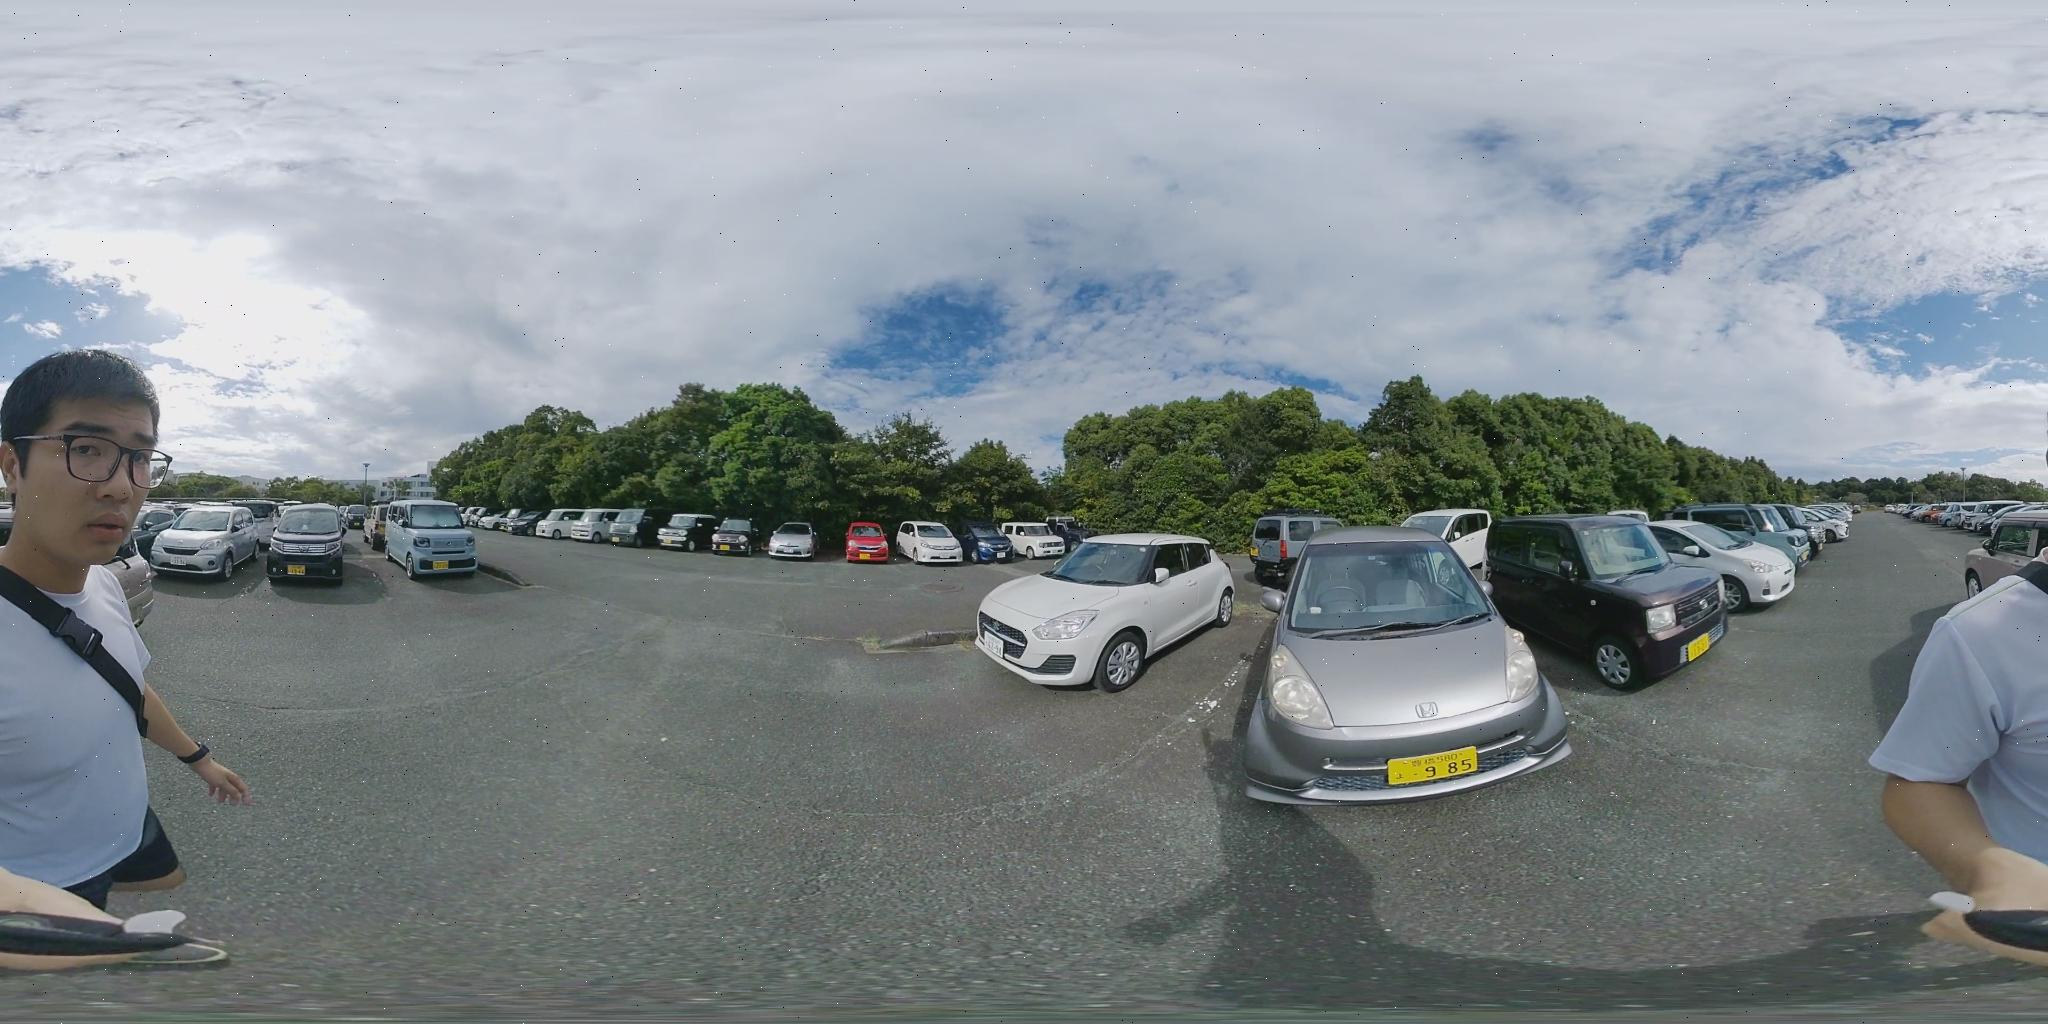car: (1238, 522, 1570, 799), (1482, 513, 1742, 691), (967, 532, 1237, 692), (1655, 521, 1805, 611), (145, 507, 276, 577), (1676, 503, 1826, 559), (266, 505, 355, 579), (896, 521, 965, 563), (997, 524, 1070, 560), (1800, 507, 1856, 547), (532, 512, 600, 542), (713, 516, 760, 558), (1979, 502, 2043, 530), (846, 522, 887, 566), (657, 517, 709, 550), (769, 522, 815, 558), (602, 513, 647, 545), (1938, 504, 1996, 528)
